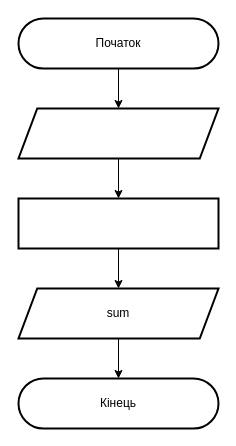
This 236x446 diagram has some shape labels left out. The centre of each missing label's shape, as x and y in pixels:
"num1, num2" goes at point 118,133.
"sum=SumBinary(num1,num2)" goes at point 118,223.
